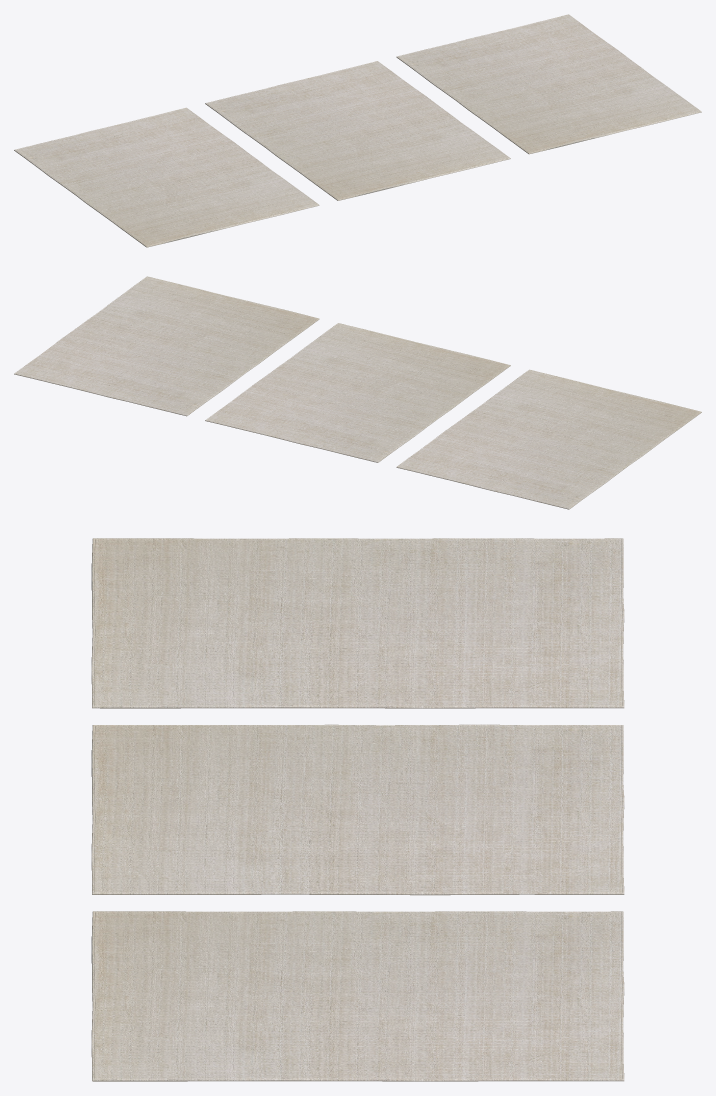
Rendered from rugs.obj.
3 renders of one model, top to bottom at view 1: azimuth 30°, elevation 25°; view 2: azimuth 150°, elevation 25°; view 3: azimuth 270°, elevation 25°, orthographic. The views are drawn at different scales.
Parts seen in each view (by area): view 1: Plane007, Plane006, Plane008; view 2: Plane008, Plane006, Plane007; view 3: Plane006, Plane008, Plane007.
Part boxes in pixels (x1=…): Plane007: x1=205, y1=61, x2=510, y2=200; Plane006: x1=14, y1=107, x2=319, y2=247; Plane008: x1=396, y1=14, x2=701, y2=154; Plane008: x1=14, y1=276, x2=319, y2=416; Plane006: x1=396, y1=369, x2=701, y2=509; Plane007: x1=205, y1=323, x2=510, y2=462; Plane006: x1=91, y1=538, x2=624, y2=708; Plane008: x1=91, y1=911, x2=624, y2=1081; Plane007: x1=91, y1=724, x2=624, y2=895.
Bounding box in the file's own units: 881 × 1.2 × 366.
